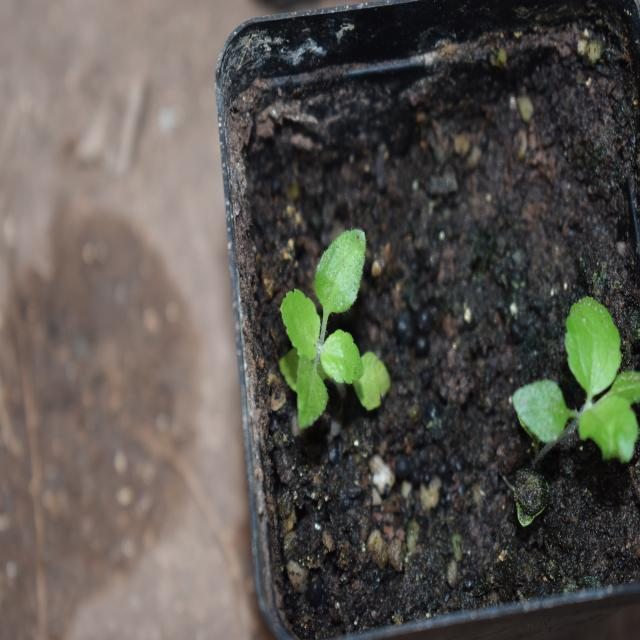billygoat_weed: (260, 214, 390, 450), (518, 281, 640, 465)
